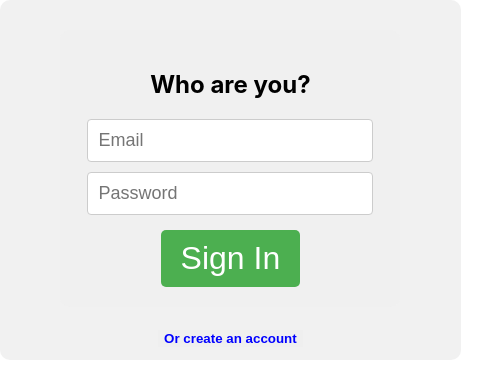
Test case: Interface panel swaps between signin and login
The image size is (478, 377).
Click the button "Or create an account": (230, 339) [158,330,303,347]
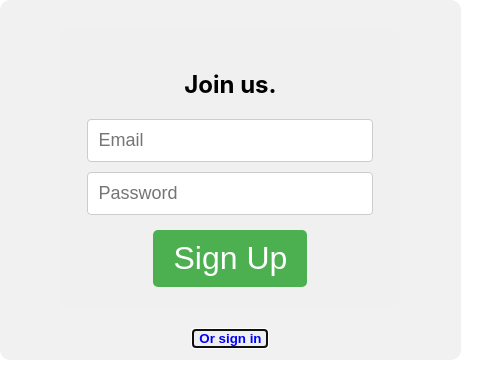
Expected: the button named "Or create an account" reads "Or sign in", [193,330,268,347]
